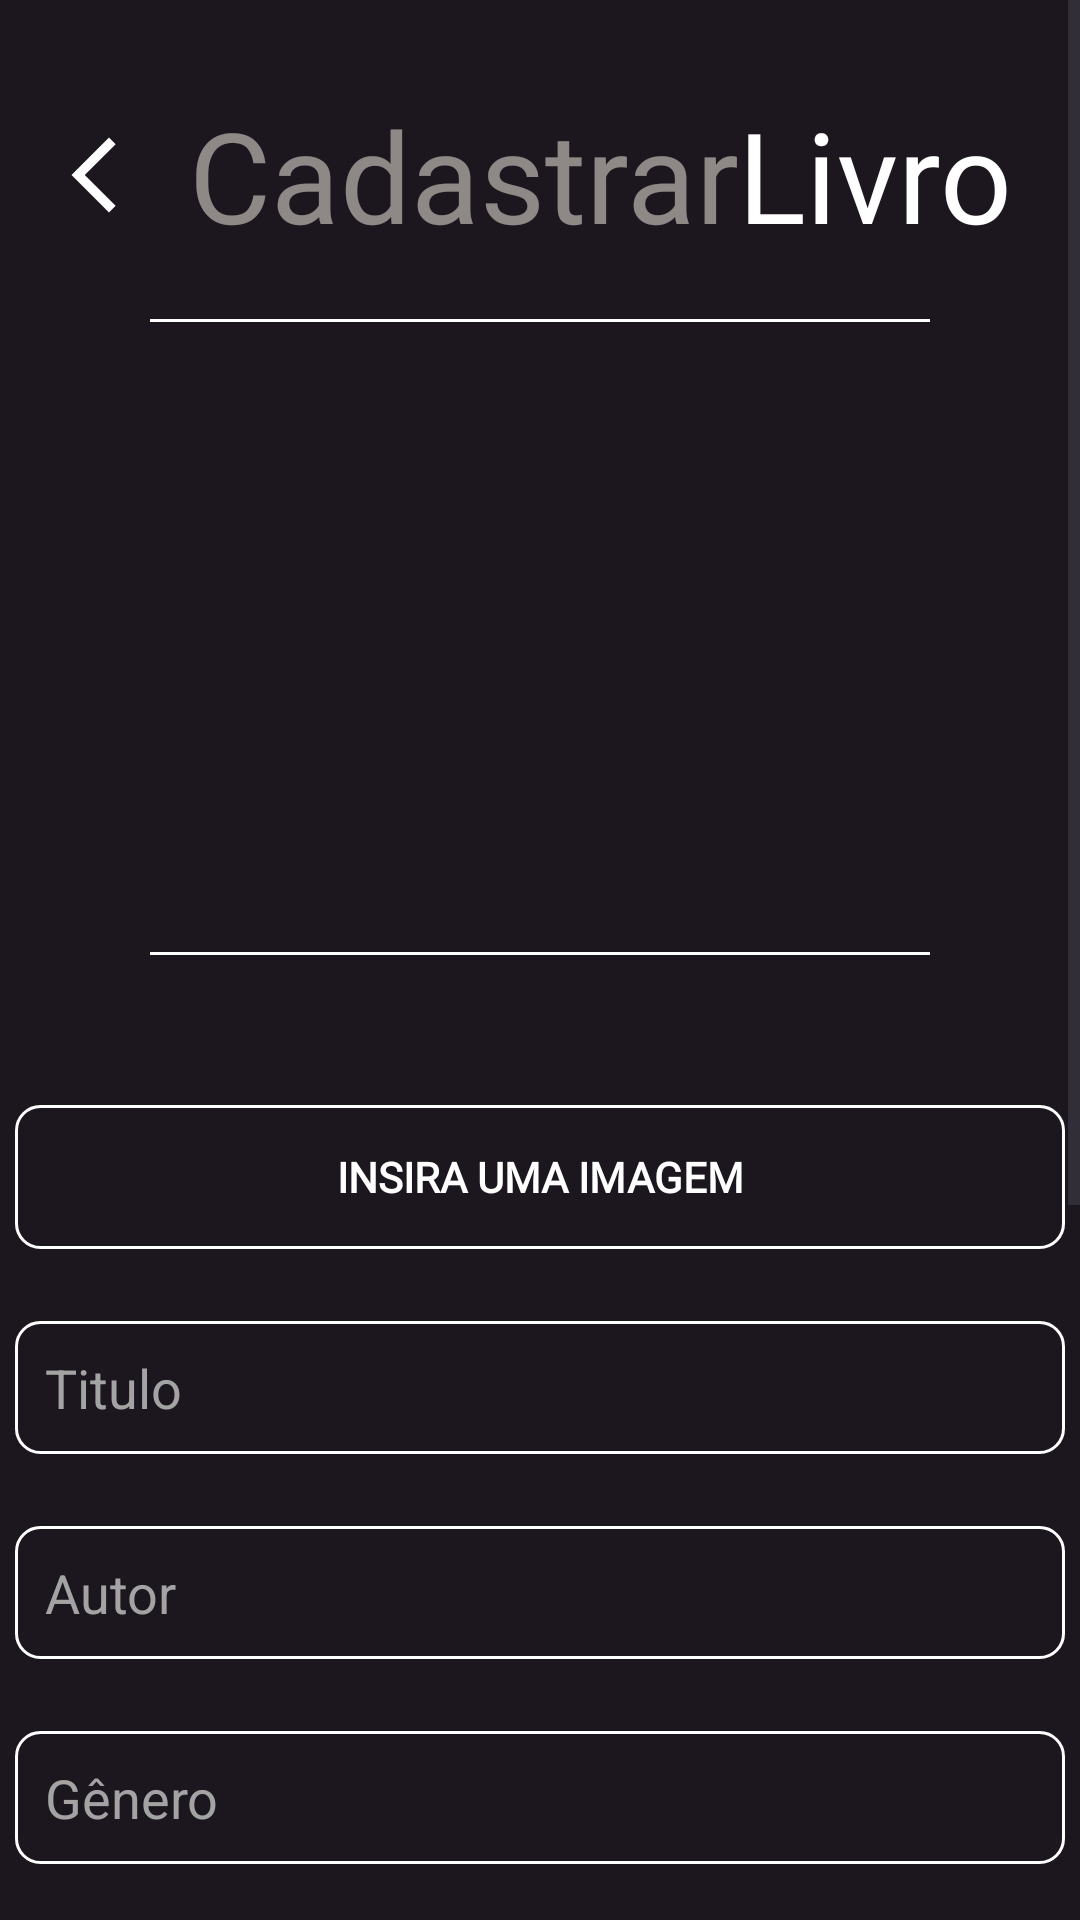

Icon click points for this 1080x1920 phone screenshot, format [x,y]:
arrow back: [93,175]
